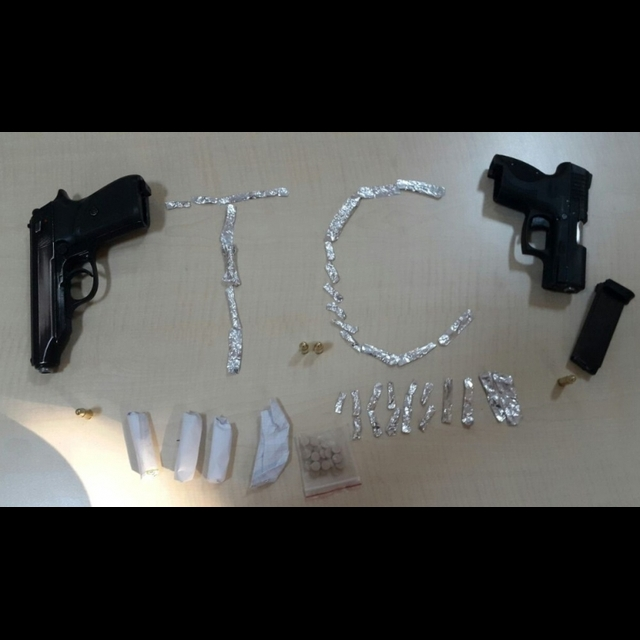SILAH: (16, 169, 156, 381), (482, 147, 591, 299)
